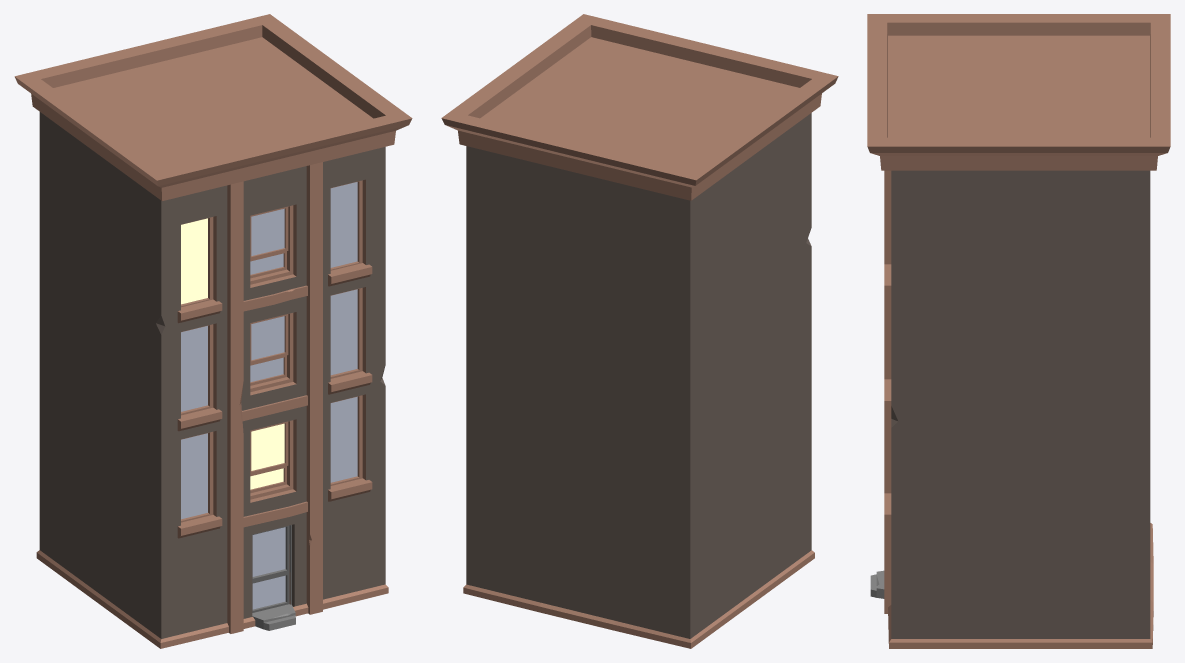
File: building_03.glb
3 views of the same model, side by side, from view 1: azimuth 30°, elevation 25°; view 2: azimuth 150°, elevation 25°; view 3: azimuth 270°, elevation 25° (orthographic). The views are drawn at different scales.
Parts seen in each view (by area): view 1: brown; view 2: brown; view 3: brown.
Boxes of the visible parts, box(x1,y1,x2,y2) form: brown: box(14, 14, 412, 648); brown: box(441, 14, 838, 648); brown: box(867, 14, 1170, 648).
Size of the model in its own units: 2.28 by 4.08 by 2.2.
